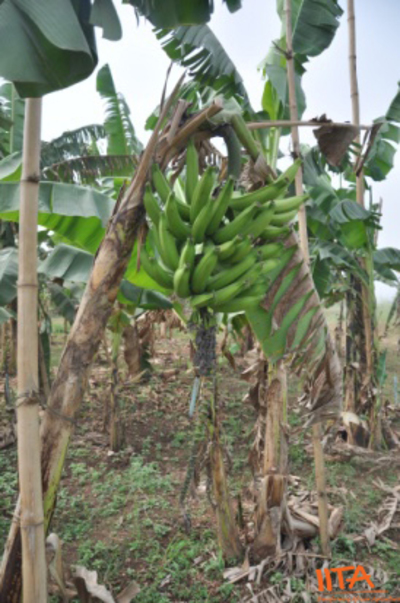bananaHand: (139, 140, 306, 308)
